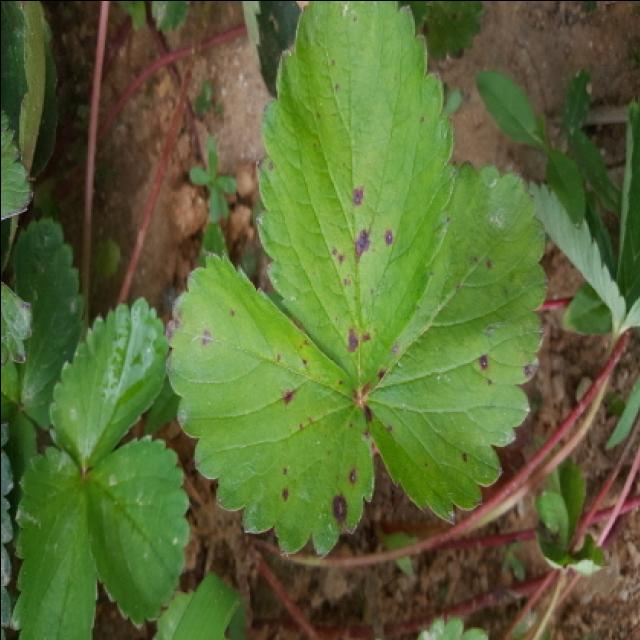Leaf Spot: (253, 2, 456, 396), (365, 159, 549, 524), (162, 247, 373, 560)
